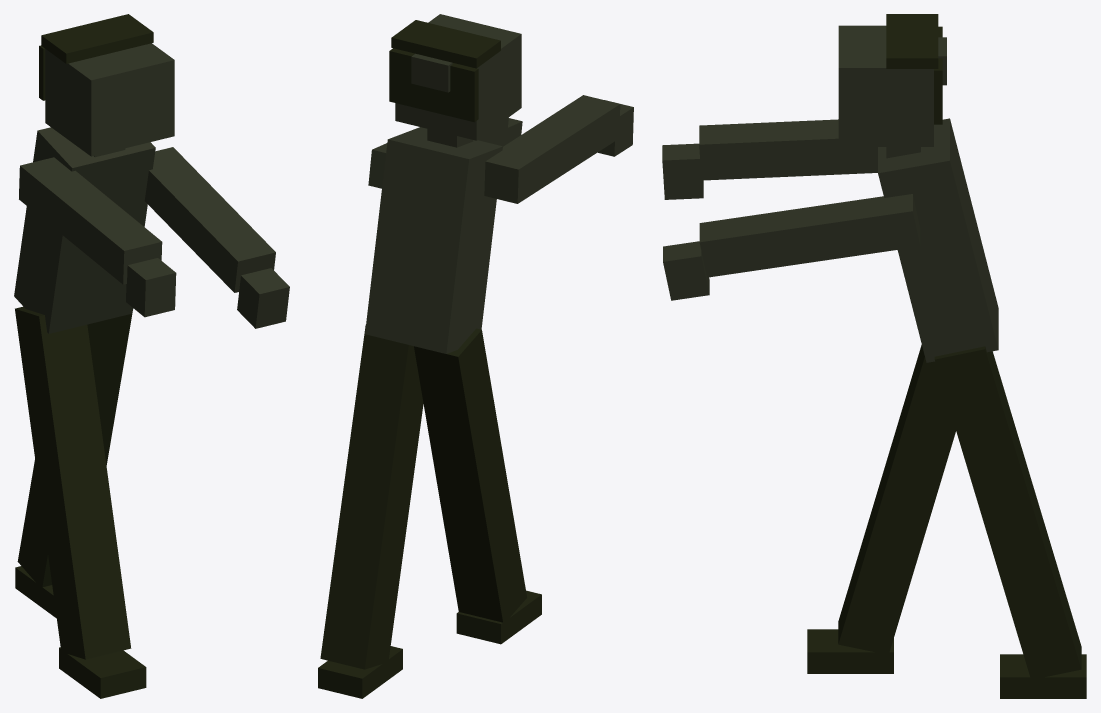
Rendered from SM_ZombiFino_v7_Bajo_LOD1.fbx.
3 renders of one model, left to right at view 1: azimuth 30°, elevation 25°; view 2: azimuth 150°, elevation 25°; view 3: azimuth 270°, elevation 25°, orthographic. The views are drawn at different scales.
Visible parts, largest first — view 1: SM_zombi_fino_v7_LOD1; view 2: SM_zombi_fino_v7_LOD1; view 3: SM_zombi_fino_v7_LOD1.
Part boxes in pixels (x1,y1,x2,y2): SM_zombi_fino_v7_LOD1: (14,14,289,698); SM_zombi_fino_v7_LOD1: (318,14,633,698); SM_zombi_fino_v7_LOD1: (662,14,1086,698).
Size of the model in its own units: 0.42 by 1.63 by 0.9796.
